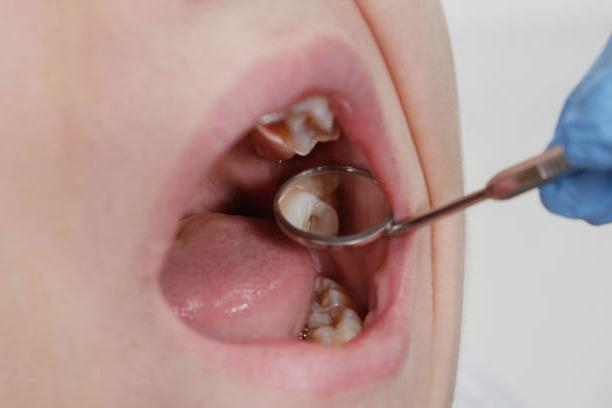Caries: (284, 112, 339, 147)
